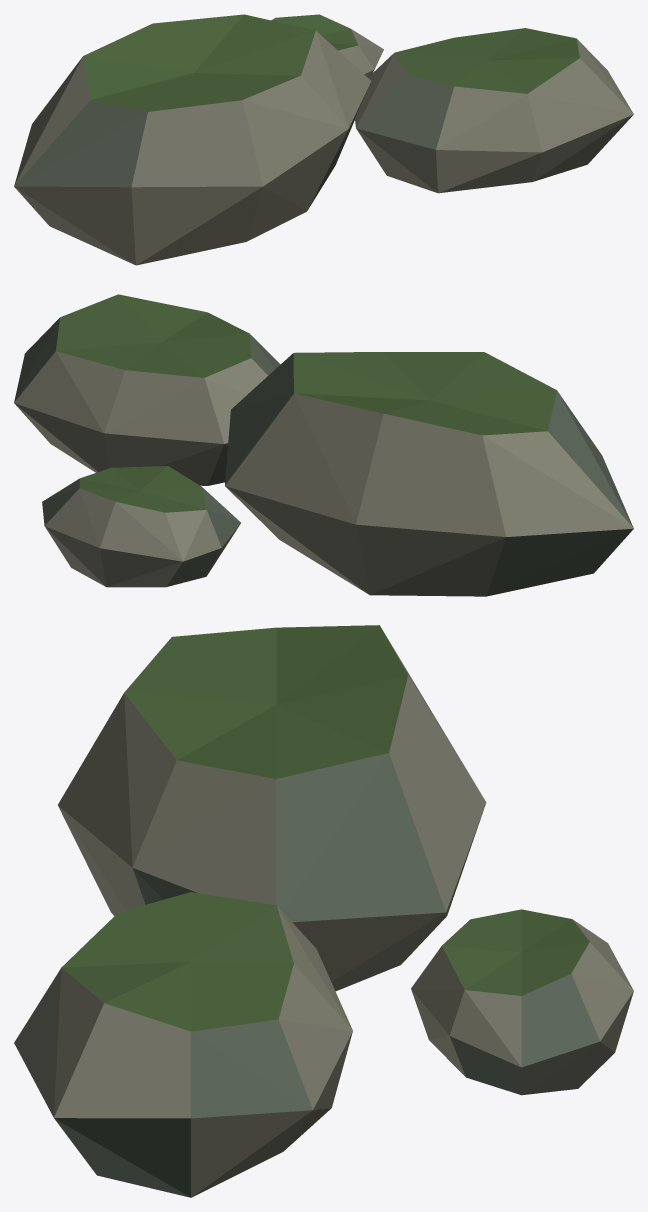
The model's file is shrine-mossy-stones.obj.
3 renders of one model, top to bottom at view 1: azimuth 30°, elevation 25°; view 2: azimuth 150°, elevation 25°; view 3: azimuth 270°, elevation 25°, orthographic. The views are drawn at different scales.
Bounding box in the file's own units: 2.07 × 0.548 × 1.24.
